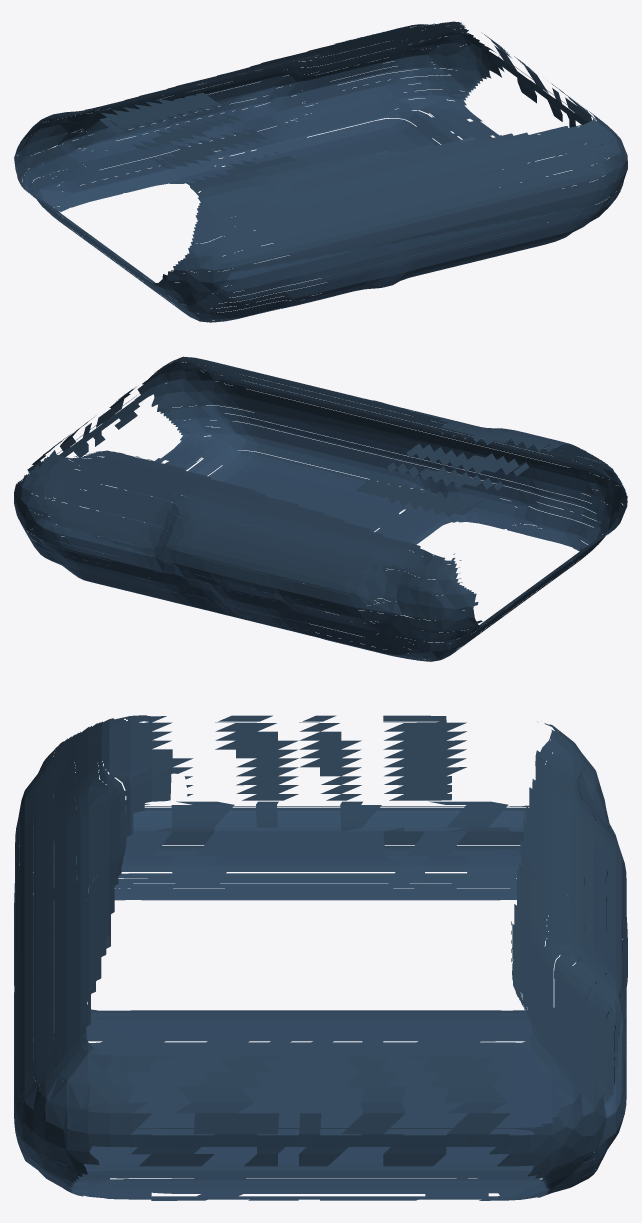
The picture shows the model from 3 angles, top to bottom: view 1: azimuth 30°, elevation 25°; view 2: azimuth 150°, elevation 25°; view 3: azimuth 270°, elevation 25°; orthographic projection. The views are drawn at different scales.
Parts seen in each view (by area): view 1: reconstruction; view 2: reconstruction; view 3: reconstruction.
Part boxes in pixels (x1,y1,x2,y2): reconstruction: (14,21,627,322); reconstruction: (14,356,627,661); reconstruction: (14,715,627,1200).
Size of the model in its own units: 1 by 0.2881 by 0.6884.
1 material, 1 textured.
